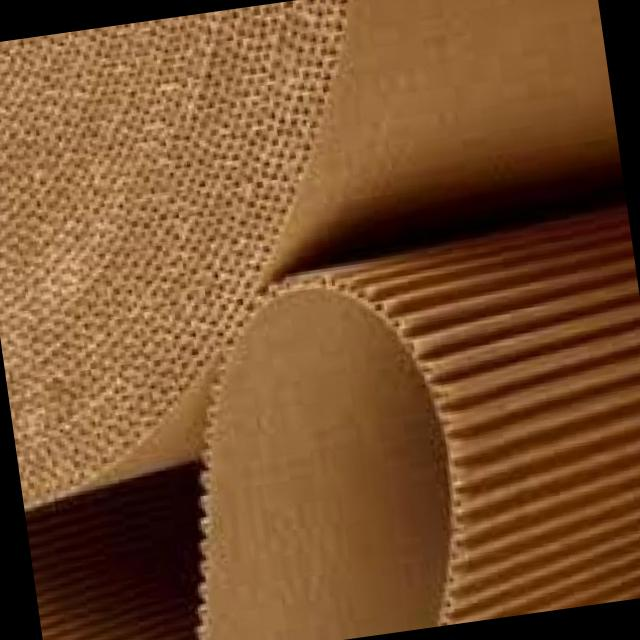cardboard paper: (197, 206, 640, 640)
